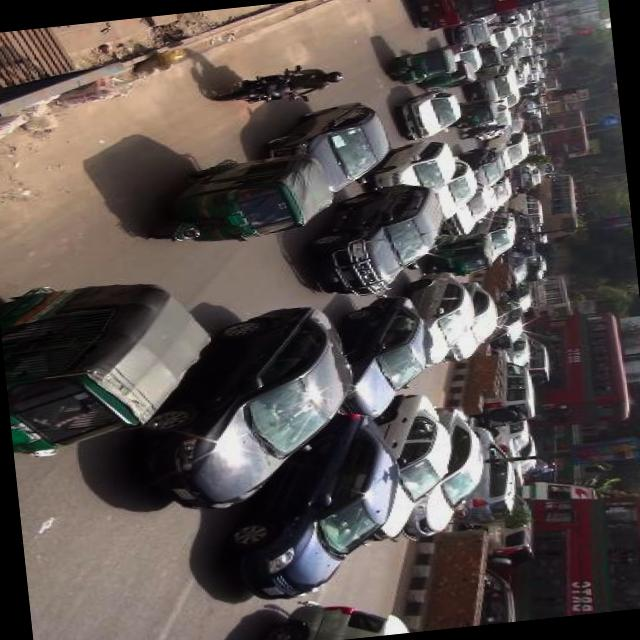bus: (500, 483, 640, 621), (508, 310, 633, 434), (414, 0, 566, 32), (526, 172, 584, 242), (515, 470, 602, 508), (538, 109, 592, 158), (521, 272, 575, 320), (541, 74, 567, 104)
car: (132, 298, 368, 516), (216, 410, 416, 604), (344, 392, 464, 545), (300, 182, 454, 300), (352, 394, 454, 547), (253, 98, 399, 204), (325, 288, 442, 418), (385, 406, 492, 542), (390, 266, 484, 372), (253, 586, 411, 640), (450, 422, 519, 522), (369, 136, 462, 198), (474, 346, 540, 429), (444, 276, 504, 366), (474, 496, 536, 568), (394, 86, 469, 142), (466, 210, 525, 264), (434, 151, 478, 218), (442, 180, 494, 236), (474, 563, 520, 624), (482, 408, 534, 460), (456, 145, 506, 192), (491, 292, 530, 348), (513, 435, 544, 482), (439, 22, 491, 48), (448, 44, 491, 74), (478, 108, 518, 136), (501, 252, 529, 288), (490, 178, 519, 212), (486, 25, 515, 54), (516, 282, 533, 311), (508, 10, 532, 26), (514, 26, 536, 37)
motorcycle: (2, 264, 226, 455), (147, 150, 344, 248), (426, 228, 500, 280), (211, 72, 301, 114), (376, 46, 457, 86), (403, 60, 485, 96), (448, 100, 500, 130), (462, 126, 500, 141)
truck: (509, 332, 554, 388), (481, 129, 537, 172), (458, 64, 518, 104), (503, 193, 544, 228)
